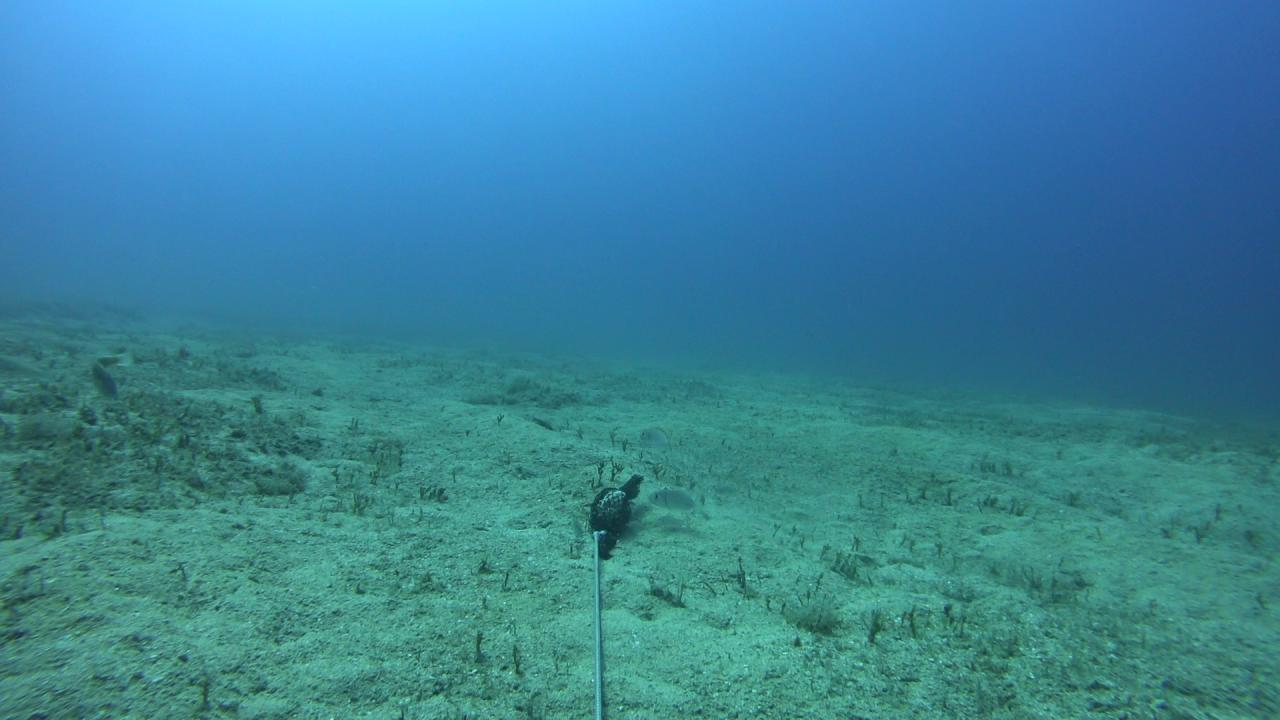pagellus: (648, 490, 708, 520), (638, 426, 674, 451)
